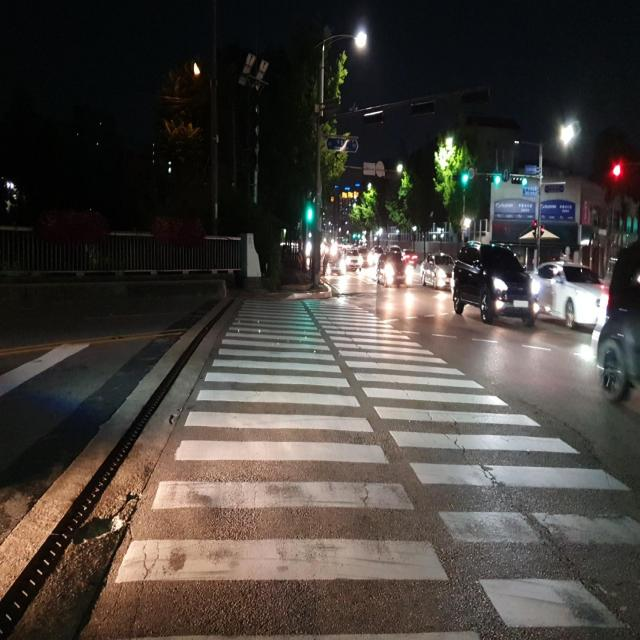초록불: (304, 189, 315, 230)
횡단보도: (114, 295, 640, 640)
